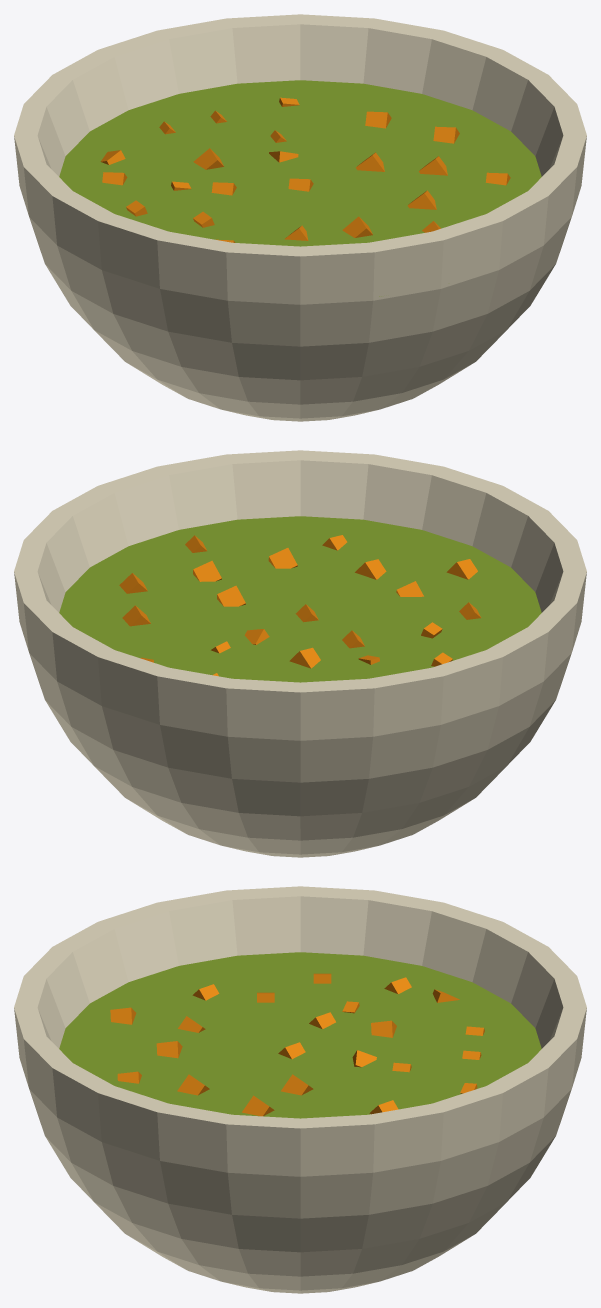
File: Sopa.fbx
3 views of the same model, one above another, from view 1: azimuth 30°, elevation 25°; view 2: azimuth 150°, elevation 25°; view 3: azimuth 270°, elevation 25° (orthographic).
Visible parts, largest first — view 1: Cube.023; view 2: Cube.023; view 3: Cube.023.
Boxes of the visible parts, x1,y1,x2,y2 form: Cube.023: [14, 14, 586, 421]; Cube.023: [14, 450, 586, 857]; Cube.023: [14, 886, 586, 1293].
Size of the model in its own units: 200 by 100 by 200.
